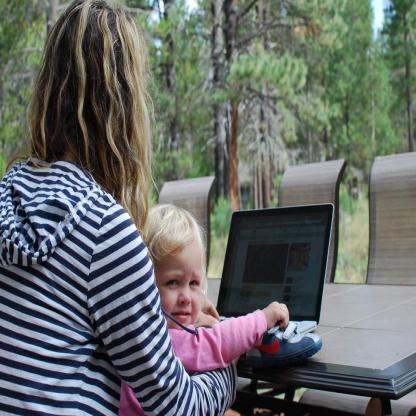board: (212, 197, 334, 308)
